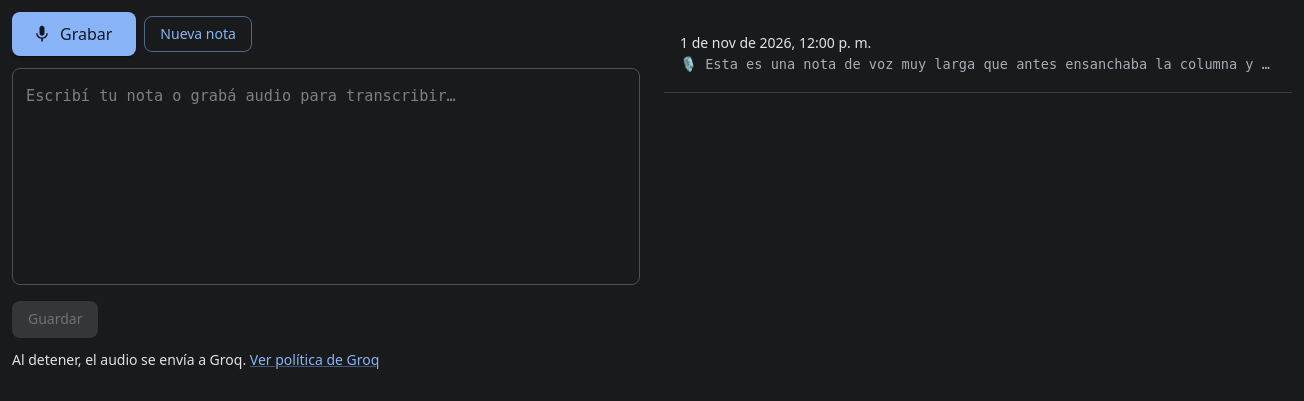
Test: Señales de grabación (UI-08) › sin AudioContext graba sin barras ni aviso
Click the button "Grabar".
click(74, 34)  # box [12,12,136,56]
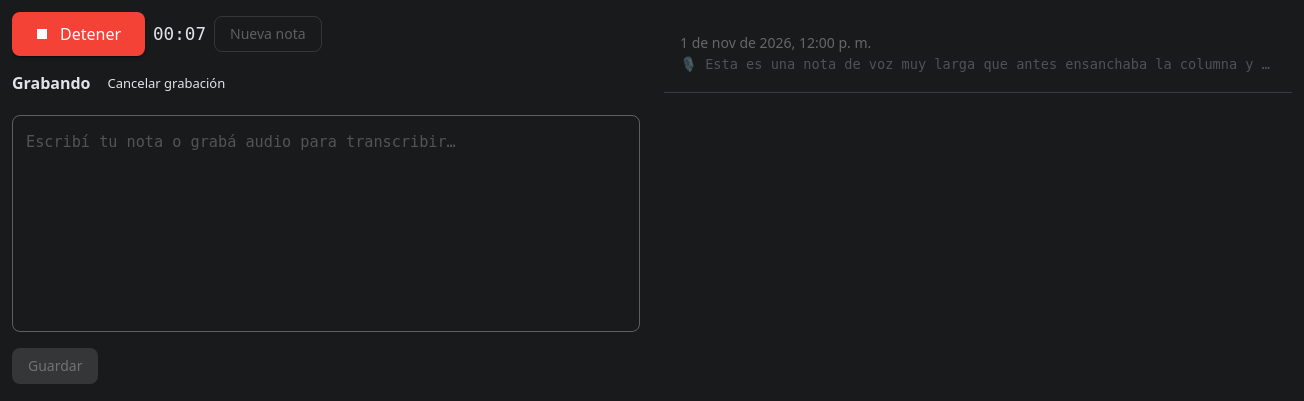
expect the text "00:07" is shown: met, box [153,21,206,47]
